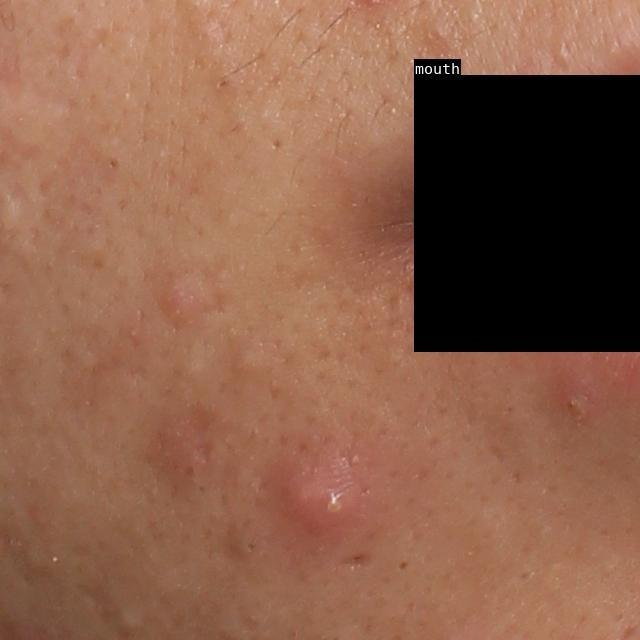atrophic_scar: (74, 567, 123, 633), (340, 551, 374, 569)
comedo: (236, 537, 260, 555), (391, 557, 412, 576)
papule: (158, 273, 207, 323)
